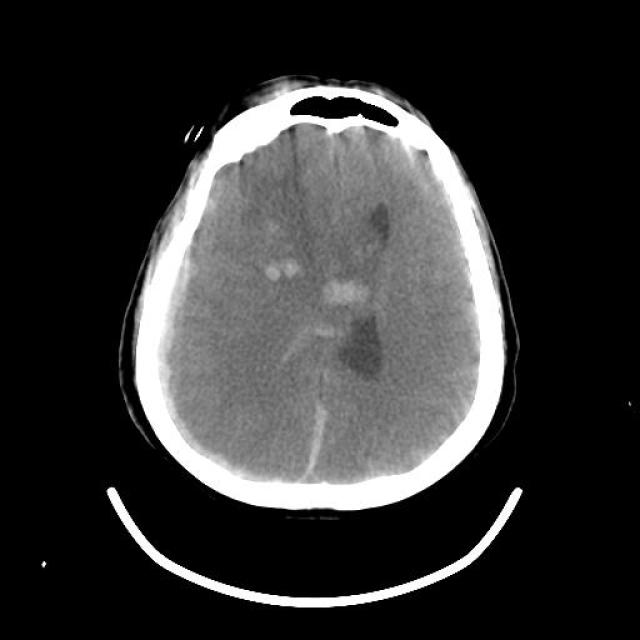Intraparenchymal: (254, 246, 321, 302), (322, 265, 383, 315)
Subarachnoid: (412, 349, 493, 445)
Subdural: (139, 225, 270, 493), (286, 394, 366, 496)
